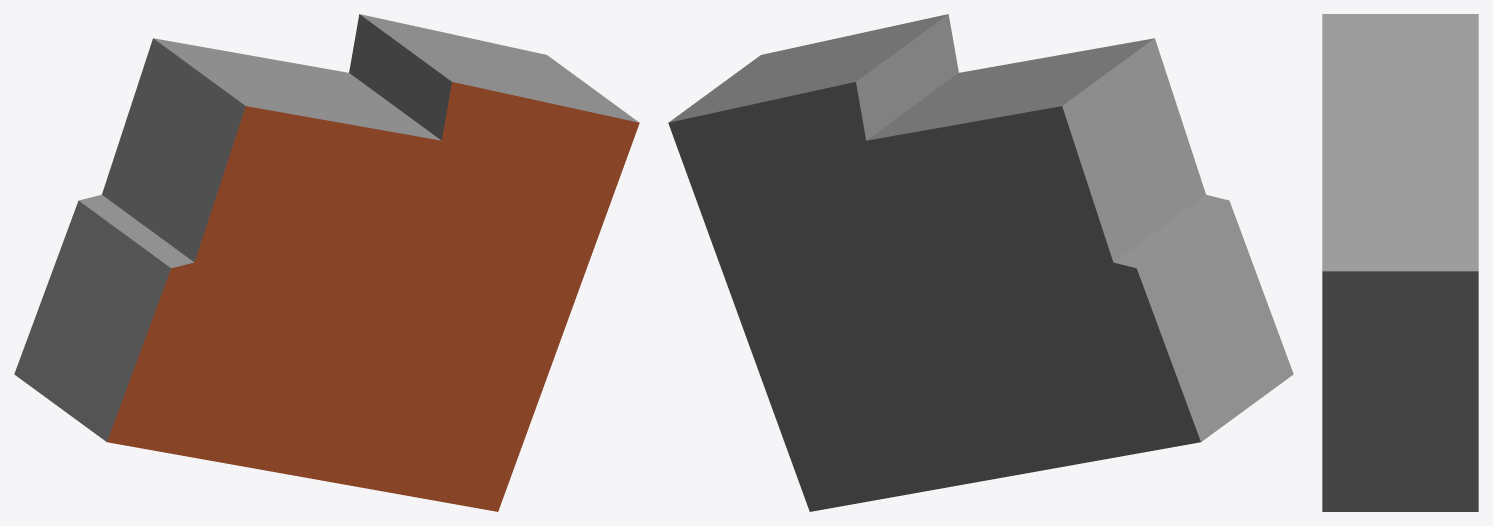
The model's file is construction_6549_assumed_A_Casa_h6m.obj.
3 renders of one model, left to right at view 1: azimuth 30°, elevation 25°; view 2: azimuth 150°, elevation 25°; view 3: azimuth 270°, elevation 25°, orthographic. The views are drawn at different scales.
Parts seen in each view (by area): view 1: construction_6549_assumed_A_Casa; view 2: construction_6549_assumed_A_Casa; view 3: construction_6549_assumed_A_Casa.
Part boxes in pixels (<box>): construction_6549_assumed_A_Casa: <box>14,14,639,511</box>; construction_6549_assumed_A_Casa: <box>668,14,1293,511</box>; construction_6549_assumed_A_Casa: <box>1322,14,1478,511</box>.
Size of the model in its own units: 19.91 by 16.69 by 6.
